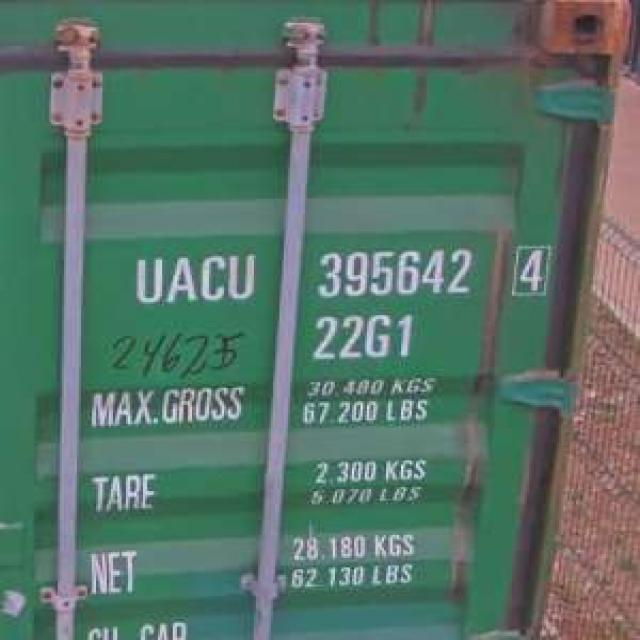dv: (506, 241, 554, 300)
owner: (128, 248, 260, 310)
serial: (309, 240, 478, 304)
size: (305, 309, 416, 365)
